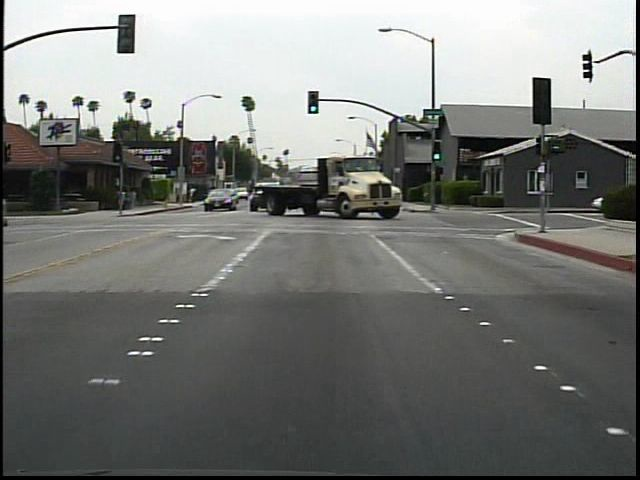person: (190, 182, 200, 205)
